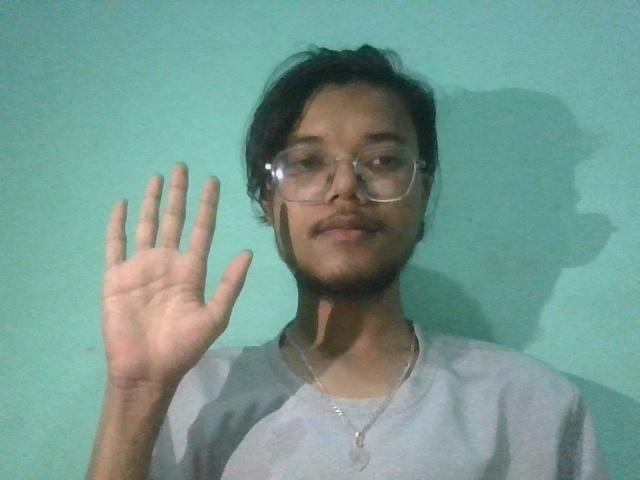hello: (94, 153, 259, 401)
